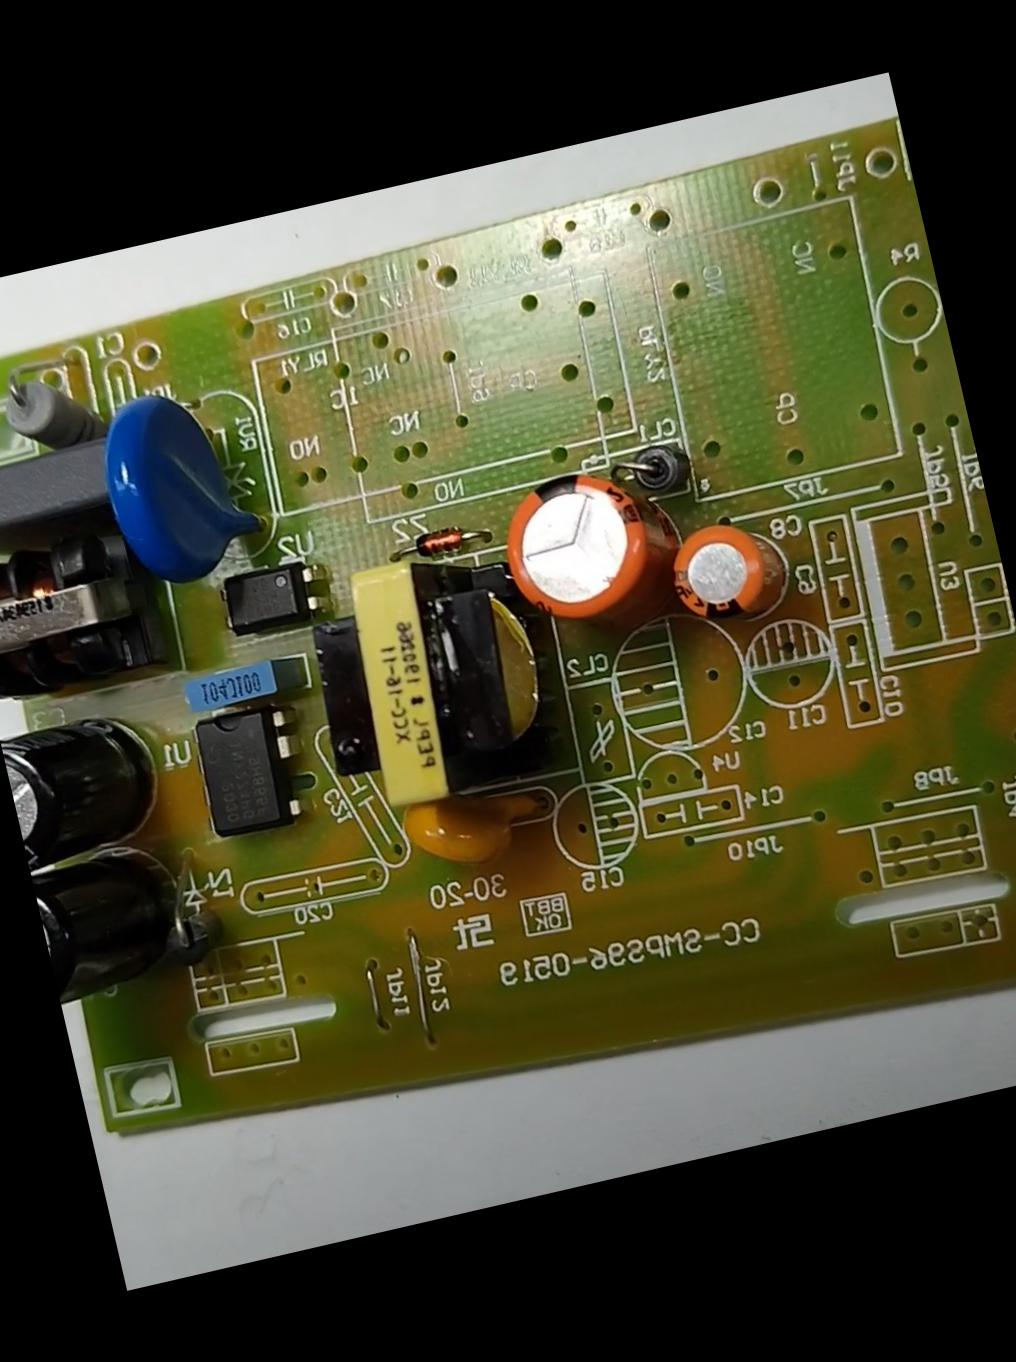Cap1: (491, 459, 668, 629)
Cap2: (658, 514, 772, 620)
Cap3: (0, 701, 166, 874)
Cap4: (30, 839, 179, 1014)
MOSFET: (187, 697, 314, 839)
Mov: (95, 377, 277, 591)
Resistor: (0, 358, 99, 459)
Transformer: (293, 532, 565, 824), (0, 511, 163, 704)
